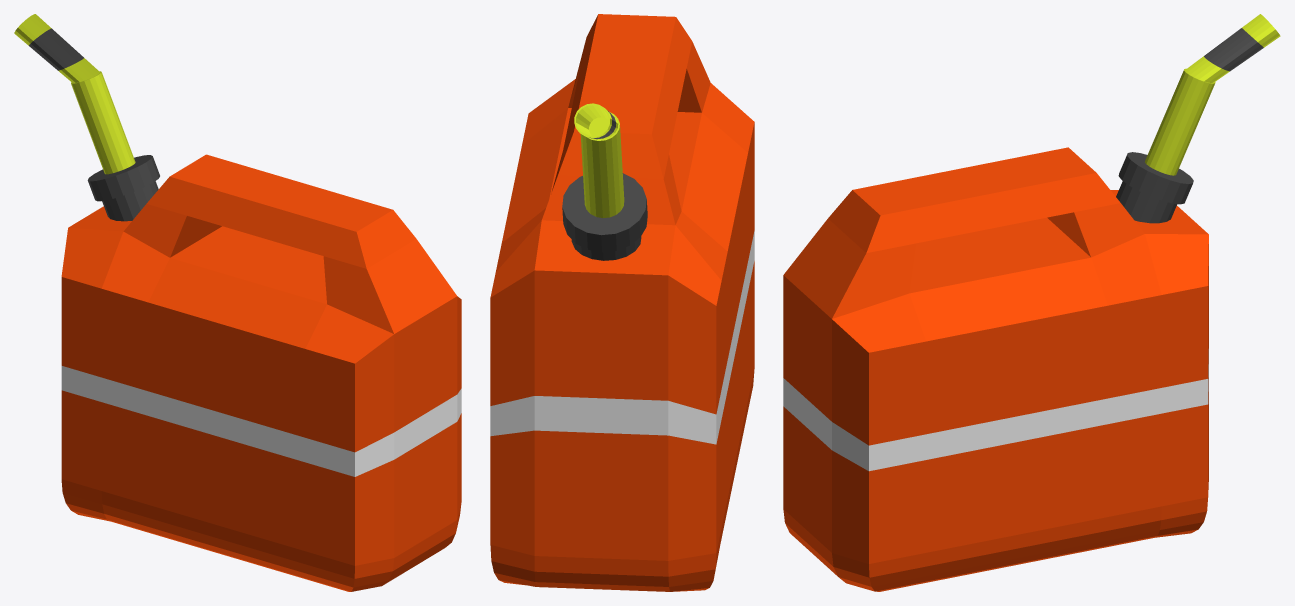
File: bOjbK_rGqRA.glb
3 views of the same model, side by side, from view 1: azimuth 30°, elevation 25°; view 2: azimuth 150°, elevation 25°; view 3: azimuth 270°, elevation 25° (orthographic). The views are drawn at different scales.
Visible parts, largest first — view 1: Box002, Cylinder004; view 2: Box002, Cylinder004; view 3: Box002, Cylinder004.
Boxes of the visible parts, x1=… form: Box002: x1=61, y1=154, x2=461, y2=591; Cylinder004: x1=14, y1=14, x2=159, y2=221; Box002: x1=490, y1=14, x2=754, y2=591; Cylinder004: x1=562, y1=103, x2=647, y2=260; Box002: x1=783, y1=147, x2=1208, y2=591; Cylinder004: x1=1116, y1=14, x2=1280, y2=223.
Size of the model in its own units: 0.6511 by 1 by 0.9691.
